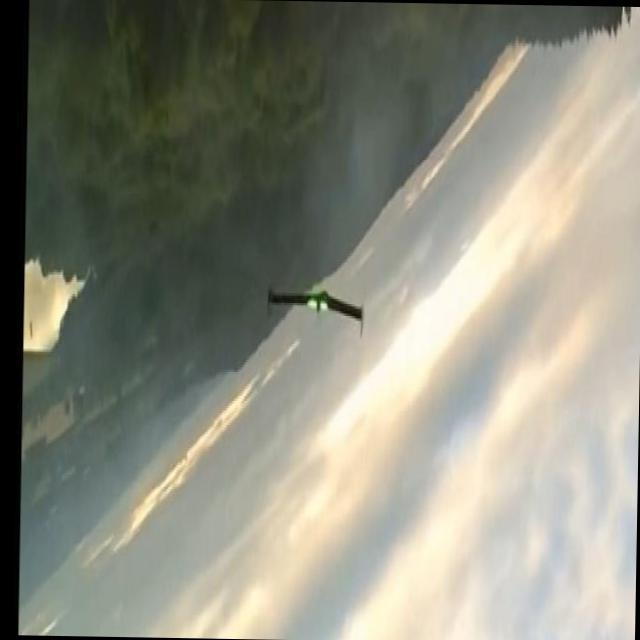UAV: (268, 272, 368, 334)
